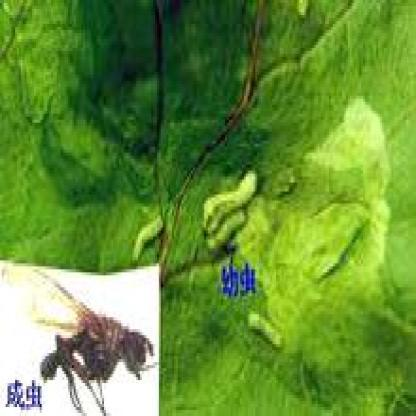whorl-maggot: (199, 154, 257, 260), (124, 204, 167, 266), (246, 299, 286, 355)
